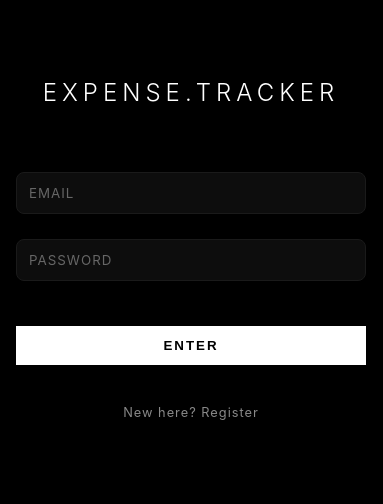
Scenario: App auth flow › toggles to register and shows name field
What coordinates should you click on to do the following:
click the text "New here? Register"
I would click on:
 (191, 412)
Its box is [123,405,259,420].
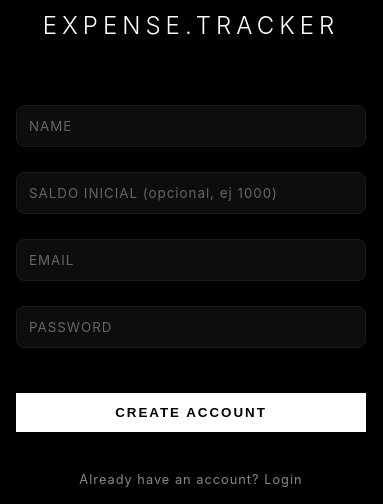
Result: the field with placeholder "NAME" is shown at [16,105,366,147]
Result: the button "CREATE ACCOUNT" is shown at [16,393,366,432]
